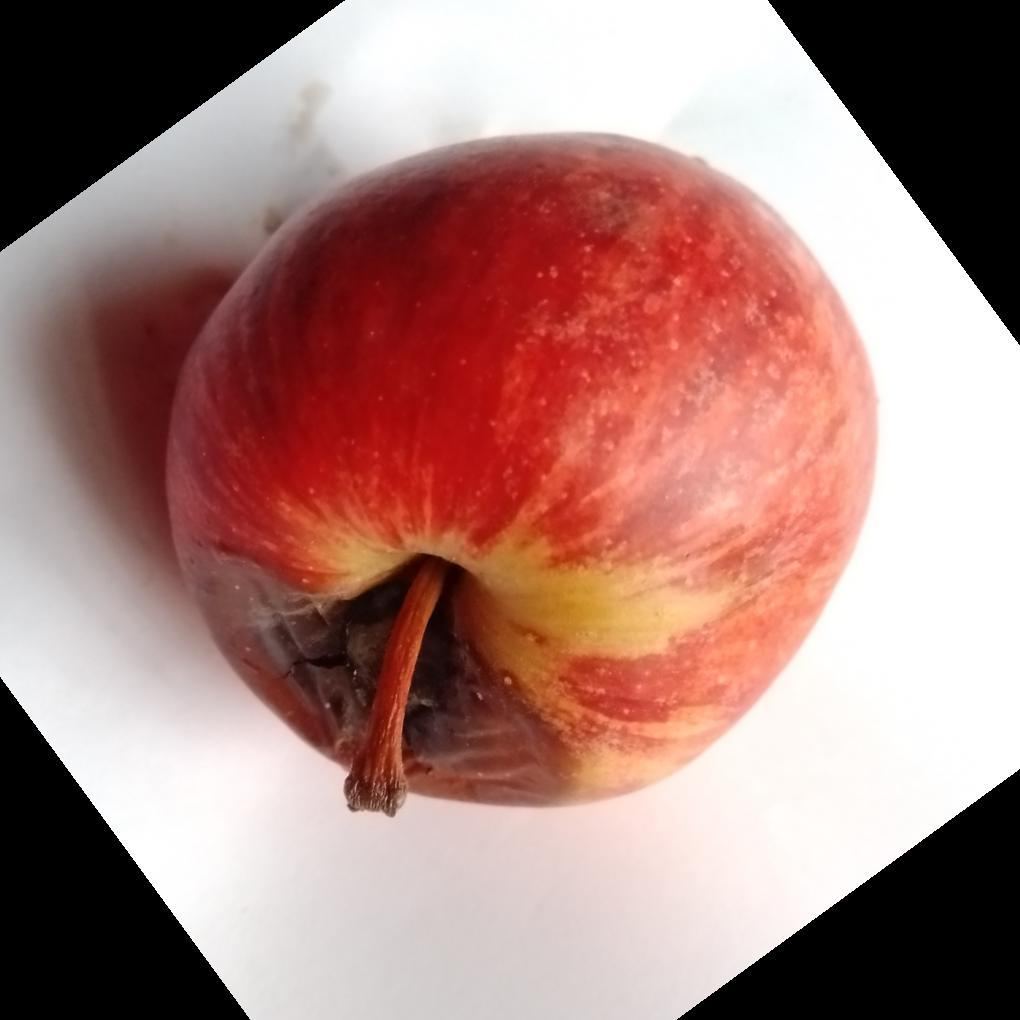FreshOrange: (161, 133, 879, 820)
